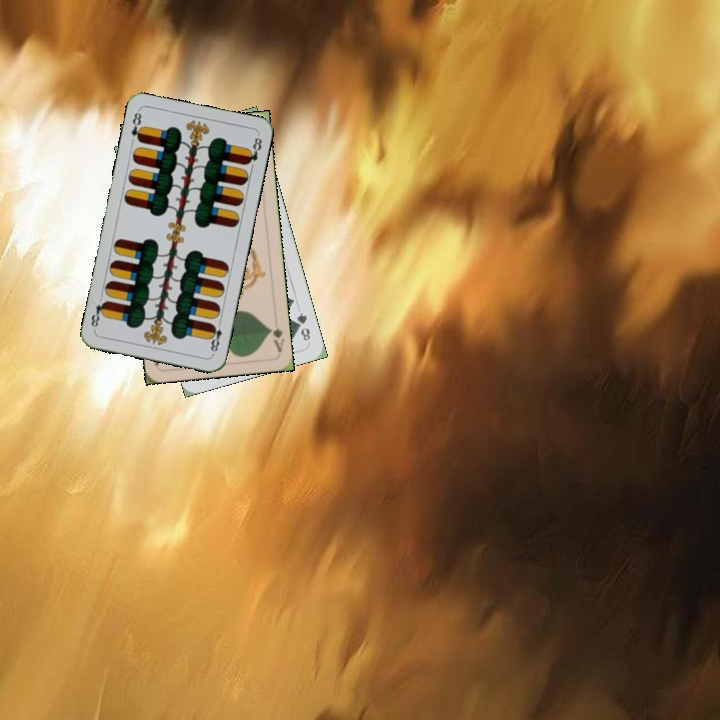E8: (206, 316, 225, 357), (127, 107, 146, 145)
G8: (293, 308, 313, 344)
GA: (265, 324, 286, 355)
